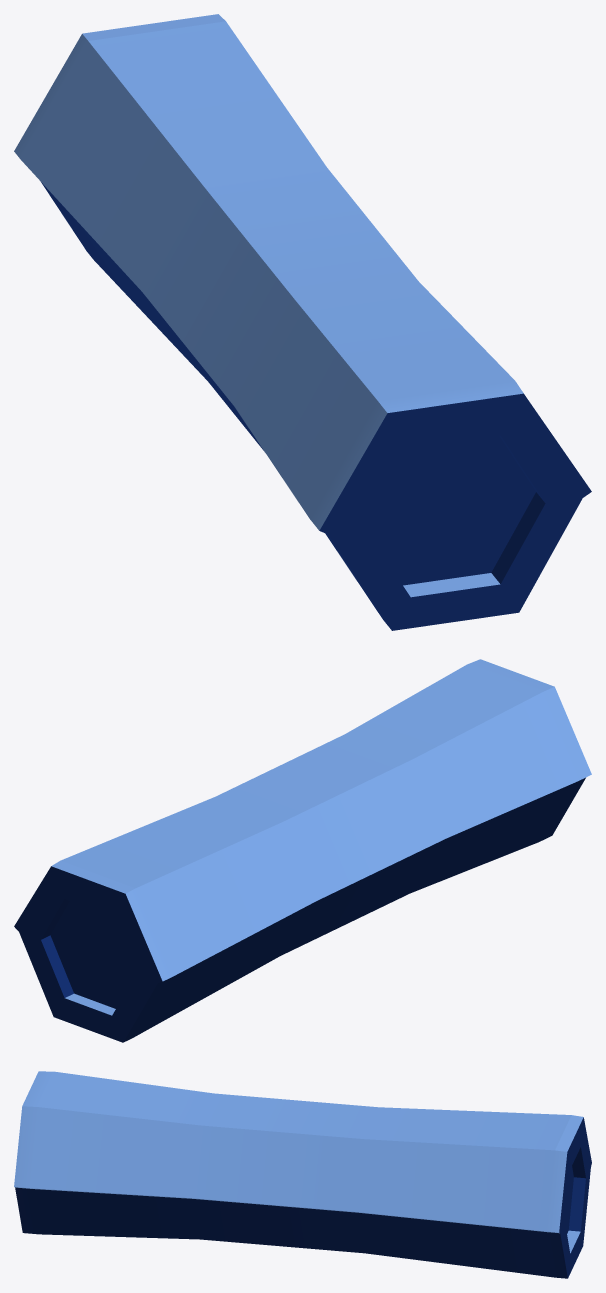
File: Tree_Log.fbx
3 views of the same model, one above another, from view 1: azimuth 30°, elevation 25°; view 2: azimuth 150°, elevation 25°; view 3: azimuth 270°, elevation 25° (orthographic). The views are drawn at different scales.
Parts seen in each view (by area): view 1: Tree_Log; view 2: Tree_Log; view 3: Tree_Log.
Boxes of the visible parts, x1=… form: Tree_Log: x1=14, y1=14, x2=591, y2=630; Tree_Log: x1=14, y1=659, x2=591, y2=1042; Tree_Log: x1=14, y1=1071, x2=591, y2=1278.
Bounding box in the file's own units: 17.64 × 9.15 × 37.26.
